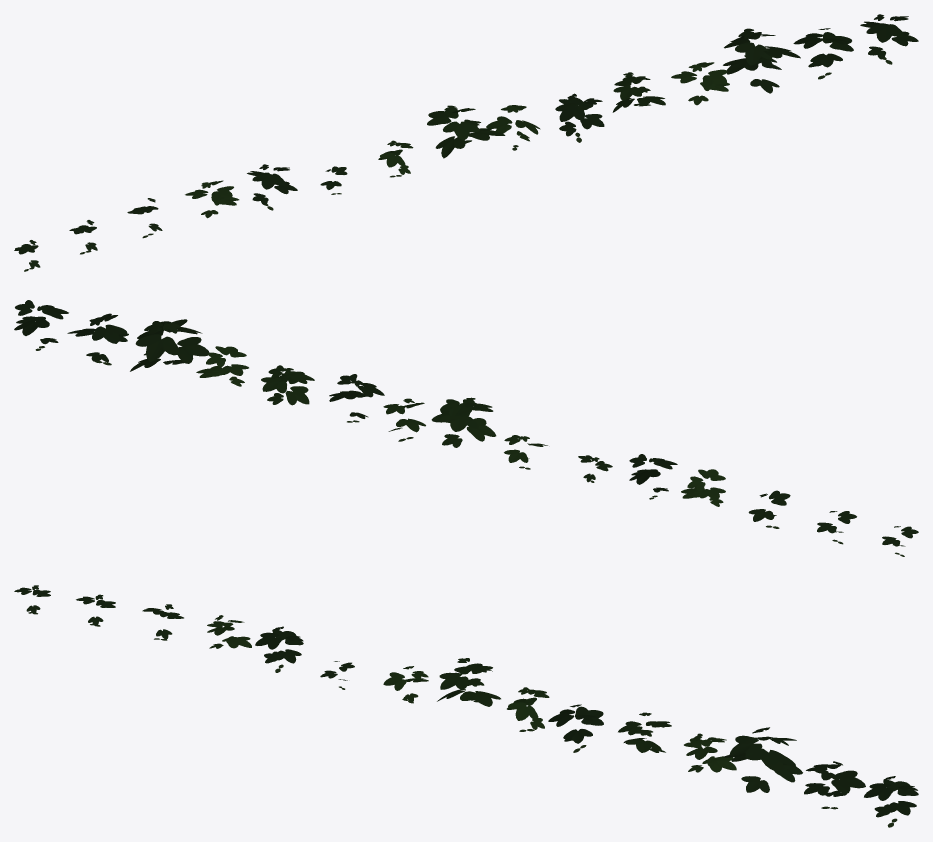
The model's file is ROW_08_SEG0_foliage.dae.
3 renders of one model, top to bottom at view 1: azimuth 30°, elevation 25°; view 2: azimuth 150°, elevation 25°; view 3: azimuth 330°, elevation 25°, orthographic.
Parts seen in each view (by area): view 1: ROW_08_SEG0_foliage; view 2: ROW_08_SEG0_foliage; view 3: ROW_08_SEG0_foliage.
Part boxes in pixels (<box>): ROW_08_SEG0_foliage: <box>14,14,918,271</box>; ROW_08_SEG0_foliage: <box>14,300,918,556</box>; ROW_08_SEG0_foliage: <box>14,585,918,827</box>.
Size of the model in its own units: 4.47 by 0.3539 by 0.2889.
